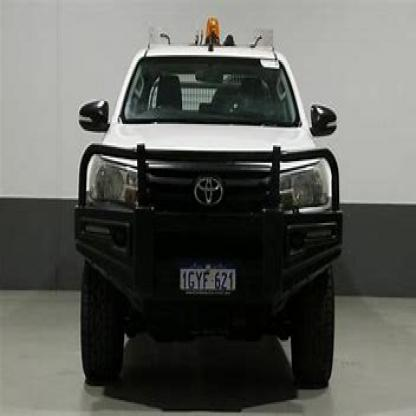light_vehicle: (66, 21, 344, 397)
